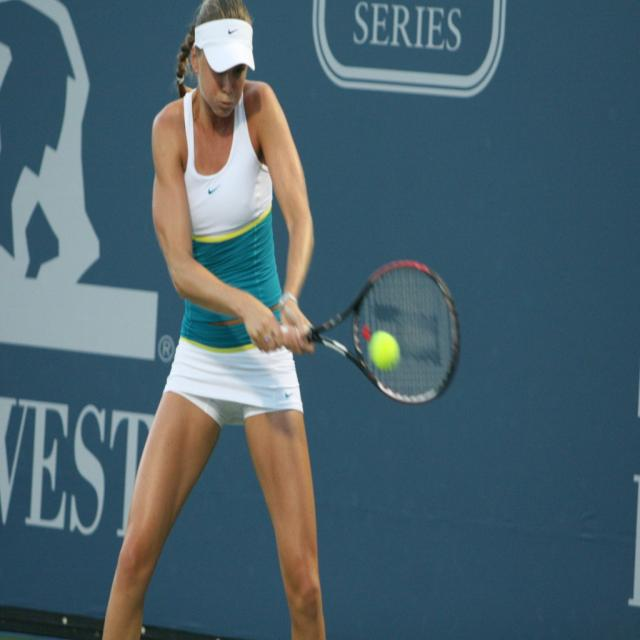Tennis ball: (370, 328, 399, 372)
